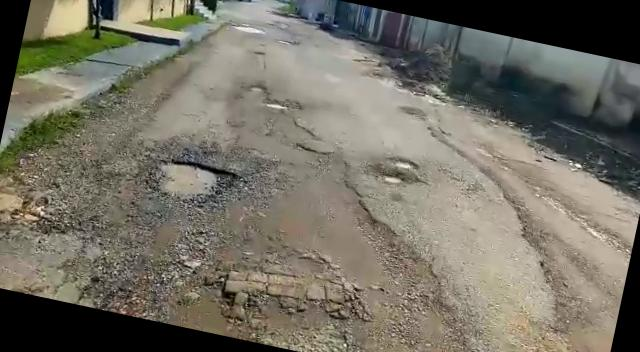pothole: (146, 152, 242, 210), (261, 98, 300, 115), (389, 155, 422, 172), (382, 172, 405, 185), (246, 83, 268, 95)
